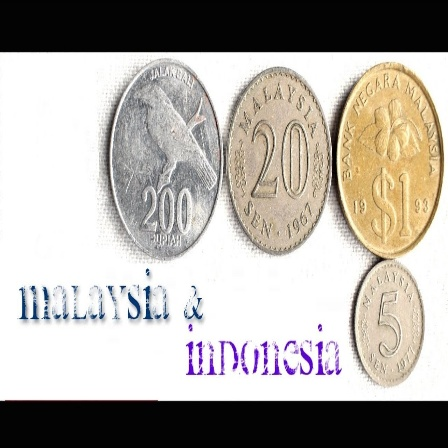1r: (335, 61, 444, 260)
20: (224, 65, 332, 258)
5: (352, 258, 426, 389)
